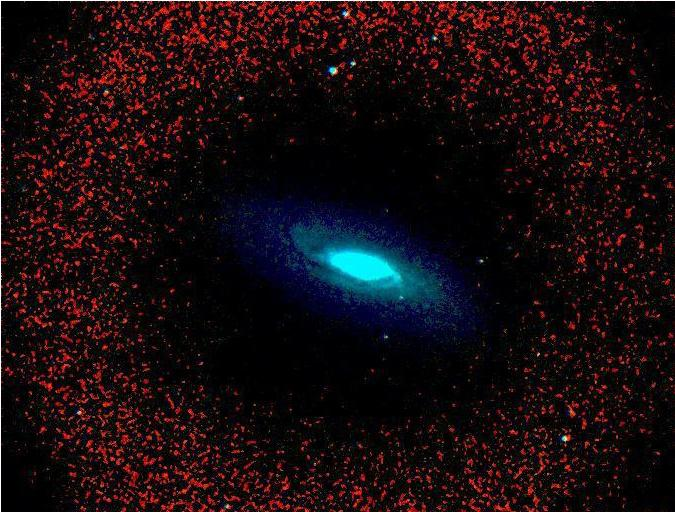star: (426, 268, 456, 298)
